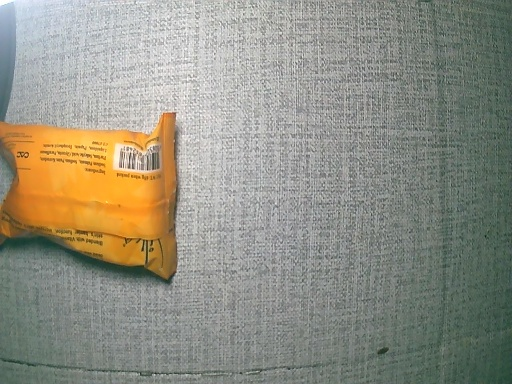plastic: (1, 111, 184, 289)
